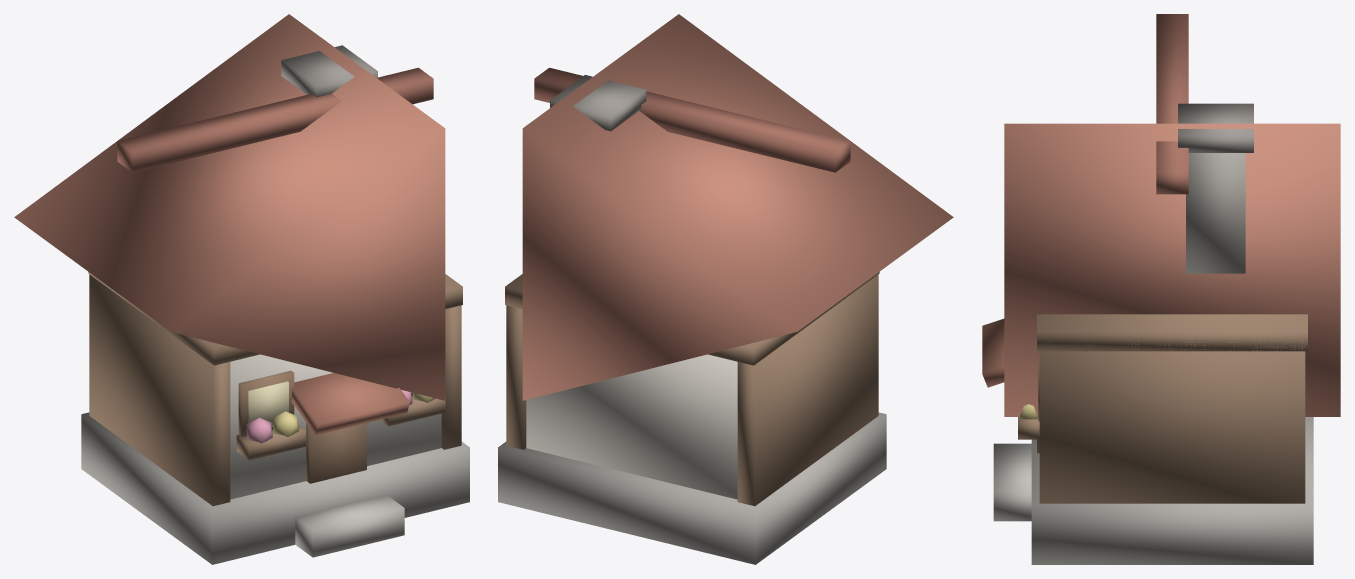
The model's file is cottage.glb.
The picture shows the model from 3 angles, left to right: view 1: azimuth 30°, elevation 25°; view 2: azimuth 150°, elevation 25°; view 3: azimuth 270°, elevation 25°; orthographic projection. The views are drawn at different scales.
Parts seen in each view (by area): view 1: Part; view 2: Part; view 3: Part.
Boxes of the visible parts, x1,y1,x2,y2 form: Part: (14,14,469,564); Part: (498,14,953,564); Part: (982,14,1340,564).
Size of the model in its own units: 1.53 by 1.72 by 1.32.
